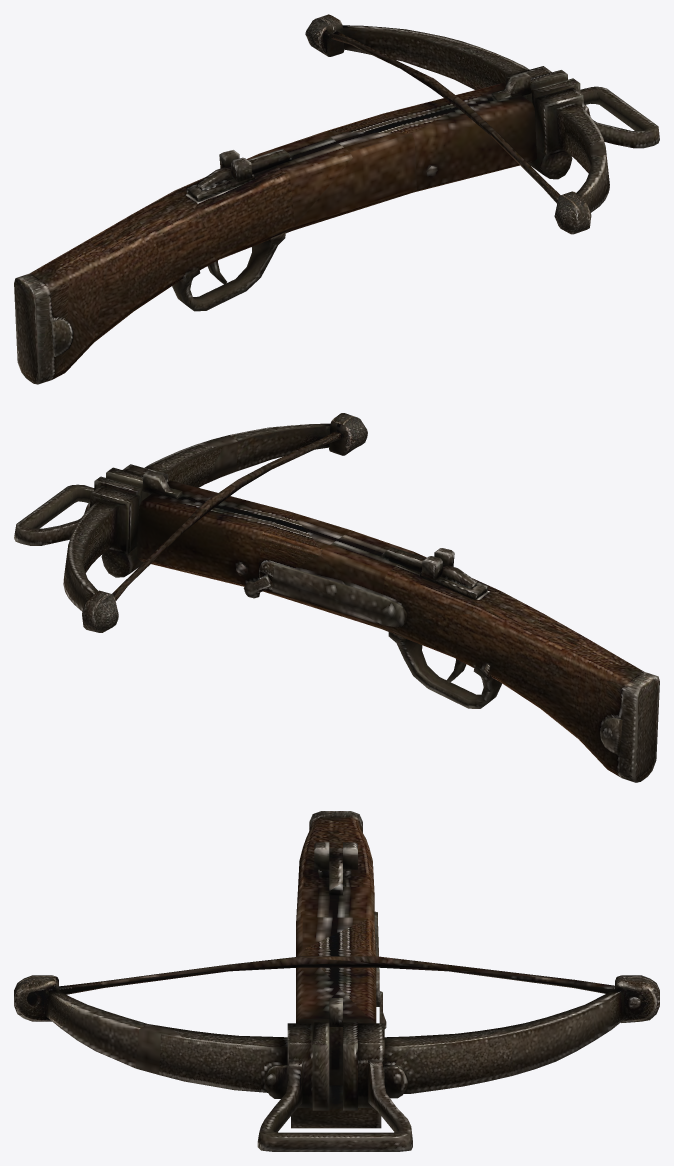
Rendered from tripo_convert_aaf5e71a-13e3-4b1f-b886-b3e56a1d20fa.fbx.
3 renders of one model, top to bottom at view 1: azimuth 30°, elevation 25°; view 2: azimuth 150°, elevation 25°; view 3: azimuth 270°, elevation 25°, orthographic. The views are drawn at different scales.
Visible parts, largest first — view 1: tripo_node_aaf5e71a; view 2: tripo_node_aaf5e71a; view 3: tripo_node_aaf5e71a.
Part boxes in pixels (x1=…): tripo_node_aaf5e71a: x1=14, y1=14, x2=659, y2=384; tripo_node_aaf5e71a: x1=14, y1=413, x2=659, y2=782; tripo_node_aaf5e71a: x1=14, y1=811, x2=659, y2=1151.
Size of the model in its own units: 0.998 by 0.2949 by 0.7559.
